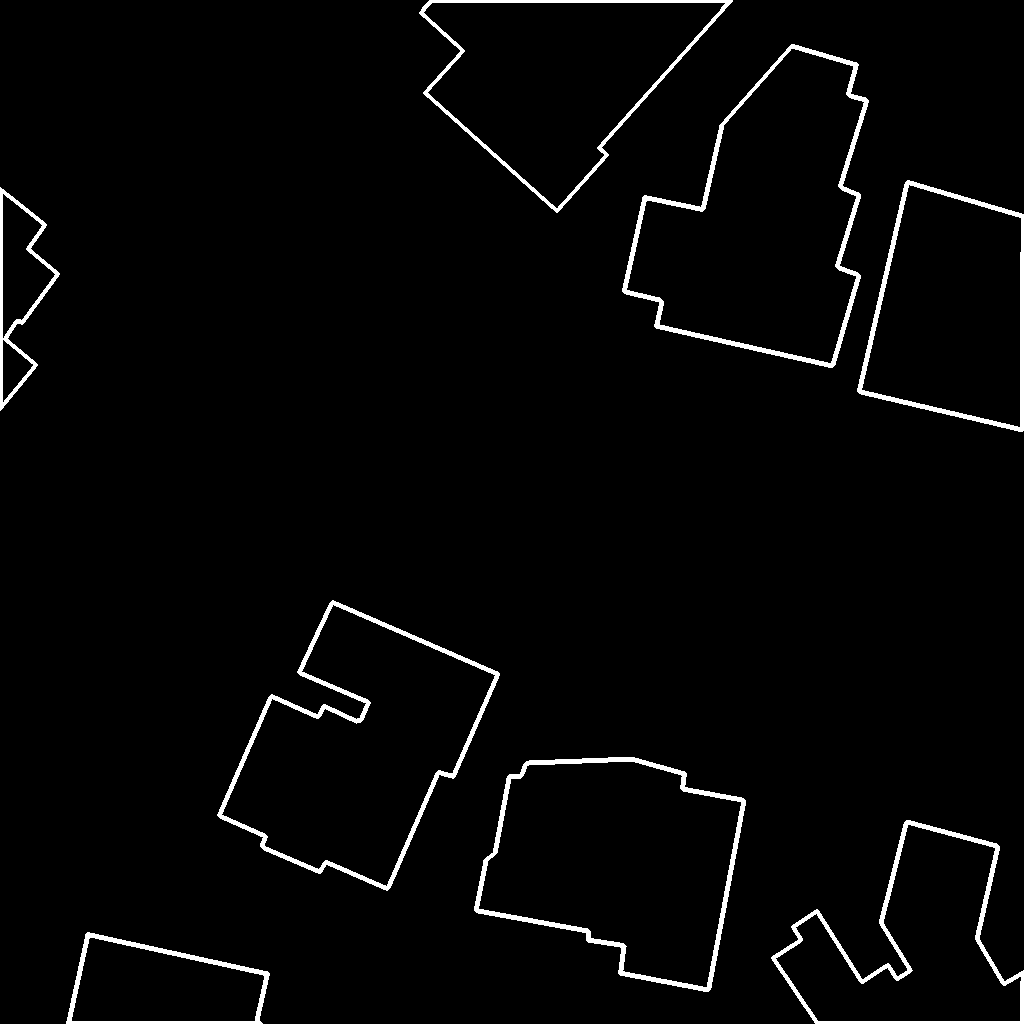building: (219, 602, 499, 890), (624, 46, 868, 367), (421, 0, 733, 212), (476, 759, 745, 991), (773, 822, 1024, 1024), (859, 182, 1024, 431), (68, 934, 269, 1024), (0, 189, 59, 410)
